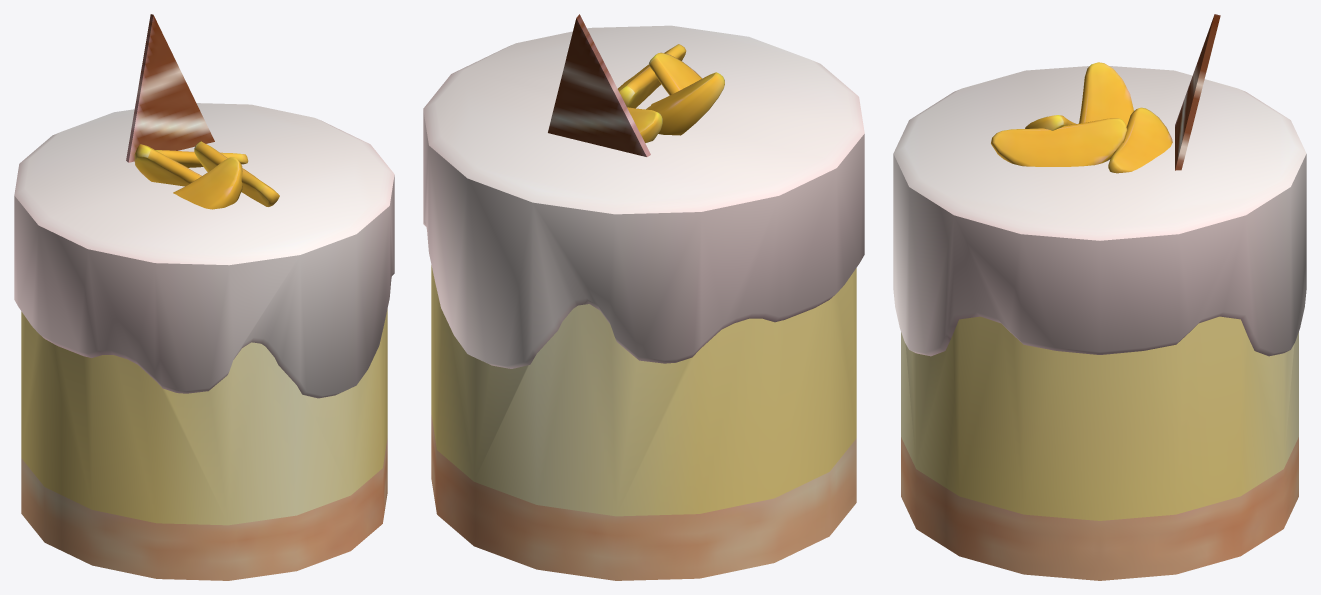
The model's file is Doll_OB_Cake_007.fbx.
3 renders of one model, left to right at view 1: azimuth 30°, elevation 25°; view 2: azimuth 150°, elevation 25°; view 3: azimuth 270°, elevation 25°, orthographic. The views are drawn at different scales.
Visible parts, largest first — view 1: Doll_OB_Cake_007; view 2: Doll_OB_Cake_007; view 3: Doll_OB_Cake_007.
Part boxes in pixels (<box>): Doll_OB_Cake_007: <box>14,14,394,580</box>; Doll_OB_Cake_007: <box>423,14,864,580</box>; Doll_OB_Cake_007: <box>893,14,1306,580</box>.
Size of the model in its own units: 0.886 by 1.15 by 0.886.
1 material, 1 textured.
